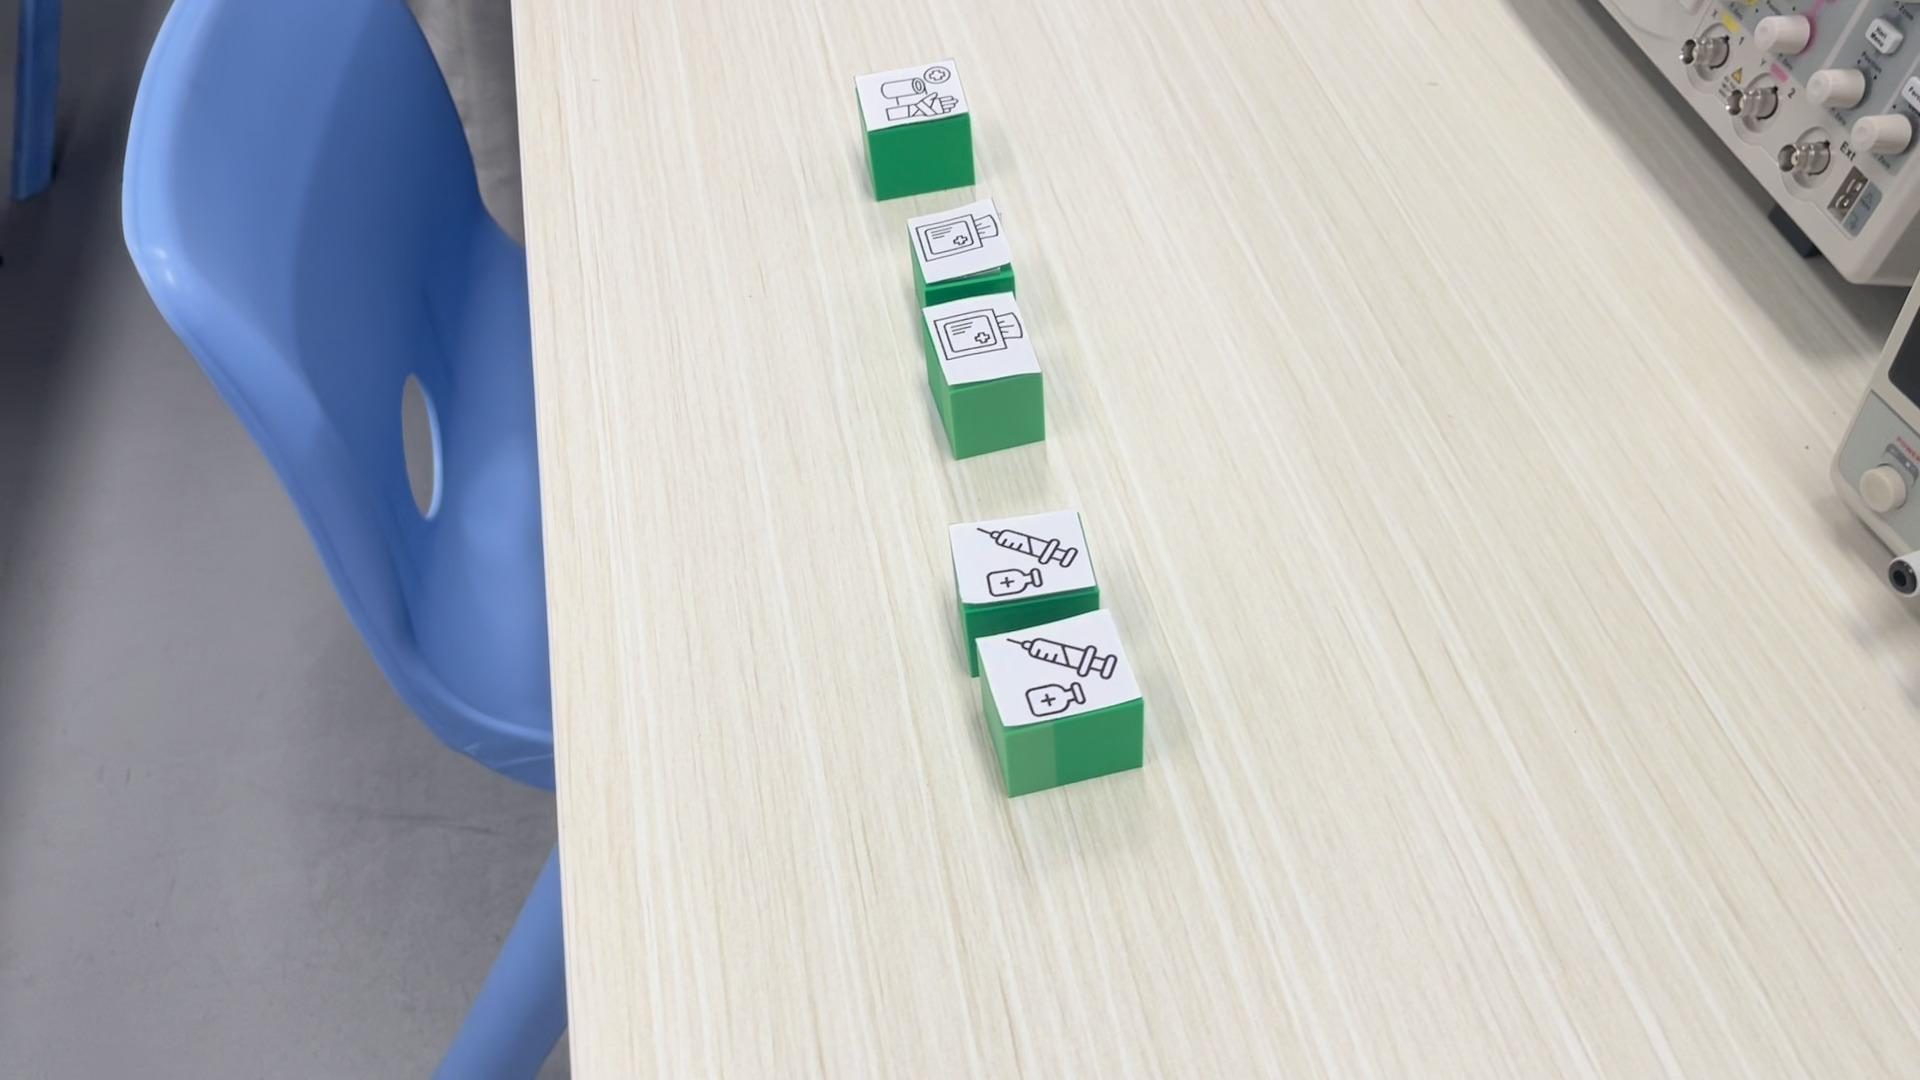Bandages: (851, 61, 975, 202)
Gauze: (922, 286, 1046, 460), (910, 196, 1019, 310)
antiseptic cream: (965, 600, 1146, 796), (952, 505, 1102, 636)
